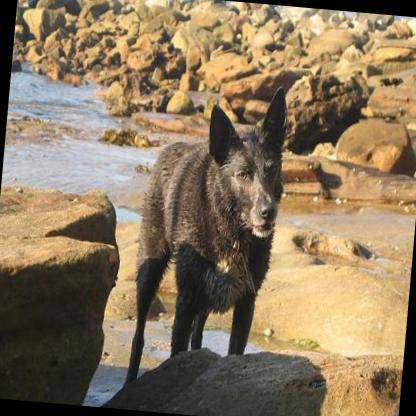kelpie: (120, 73, 293, 401)
